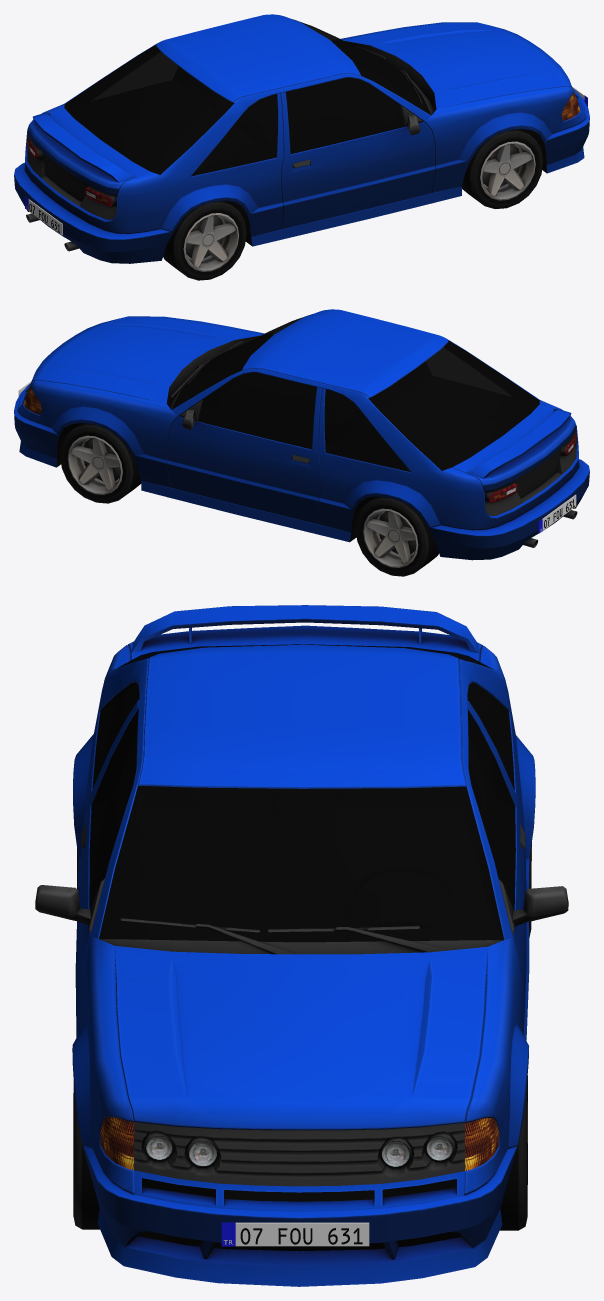
Rendered from CarPlated2657.dae.
3 renders of one model, top to bottom at view 1: azimuth 30°, elevation 25°; view 2: azimuth 150°, elevation 25°; view 3: azimuth 270°, elevation 25°, orthographic. The views are drawn at different scales.
Parts seen in each view (by area): view 1: CarPlated2657; view 2: CarPlated2657; view 3: CarPlated2657.
Part boxes in pixels (x1=…): CarPlated2657: x1=14, y1=14, x2=589, y2=280; CarPlated2657: x1=14, y1=309, x2=589, y2=576; CarPlated2657: x1=35, y1=605, x2=568, y2=1286.
Size of the model in its own units: 4.27 by 1.88 by 1.28.
